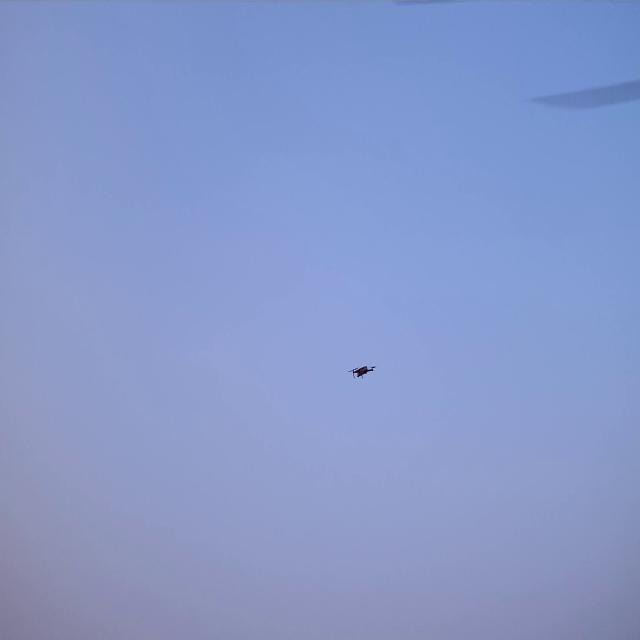UAV: (352, 366, 374, 378)
